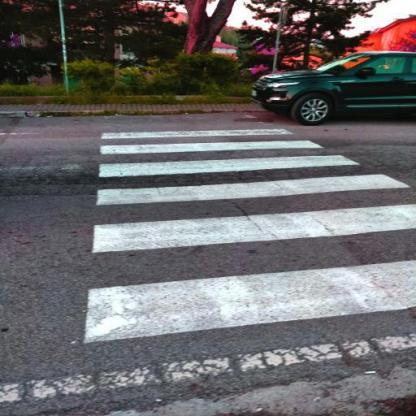crosswalk: (86, 150, 412, 214)
